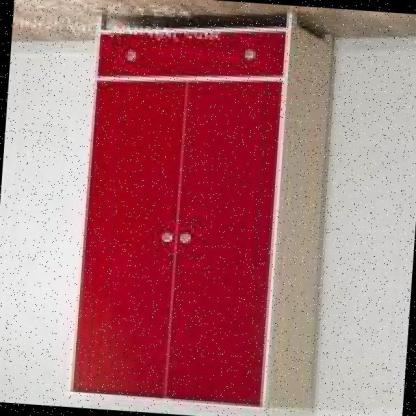Closet: (61, 0, 345, 416)
